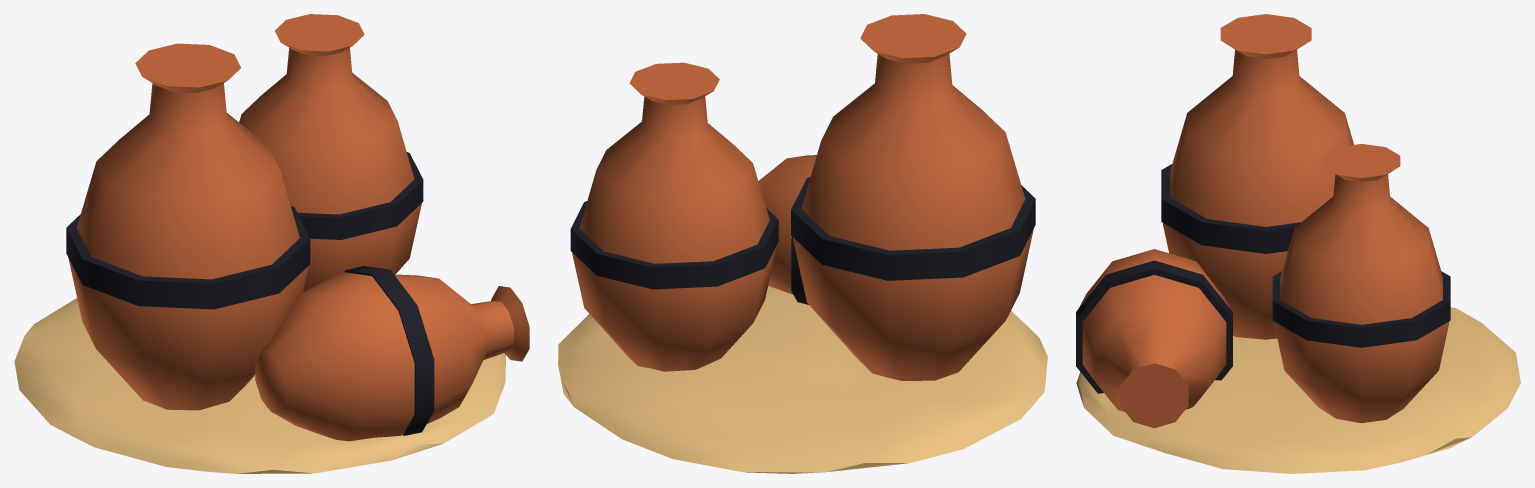
File: Amphorae.fbx
3 renders of one model, left to right at view 1: azimuth 30°, elevation 25°; view 2: azimuth 150°, elevation 25°; view 3: azimuth 270°, elevation 25°, orthographic. The views are drawn at different scales.
Parts seen in each view (by area): view 1: Amphorae; view 2: Amphorae; view 3: Amphorae.
Part boxes in pixels (x1=…): Amphorae: x1=14, y1=14, x2=529, y2=473; Amphorae: x1=558, y1=14, x2=1047, y2=473; Amphorae: x1=1076, y1=14, x2=1520, y2=473.
Size of the model in its own units: 1.4 by 1.12 by 1.4.
Materials: 1 (1 with a texture image).
